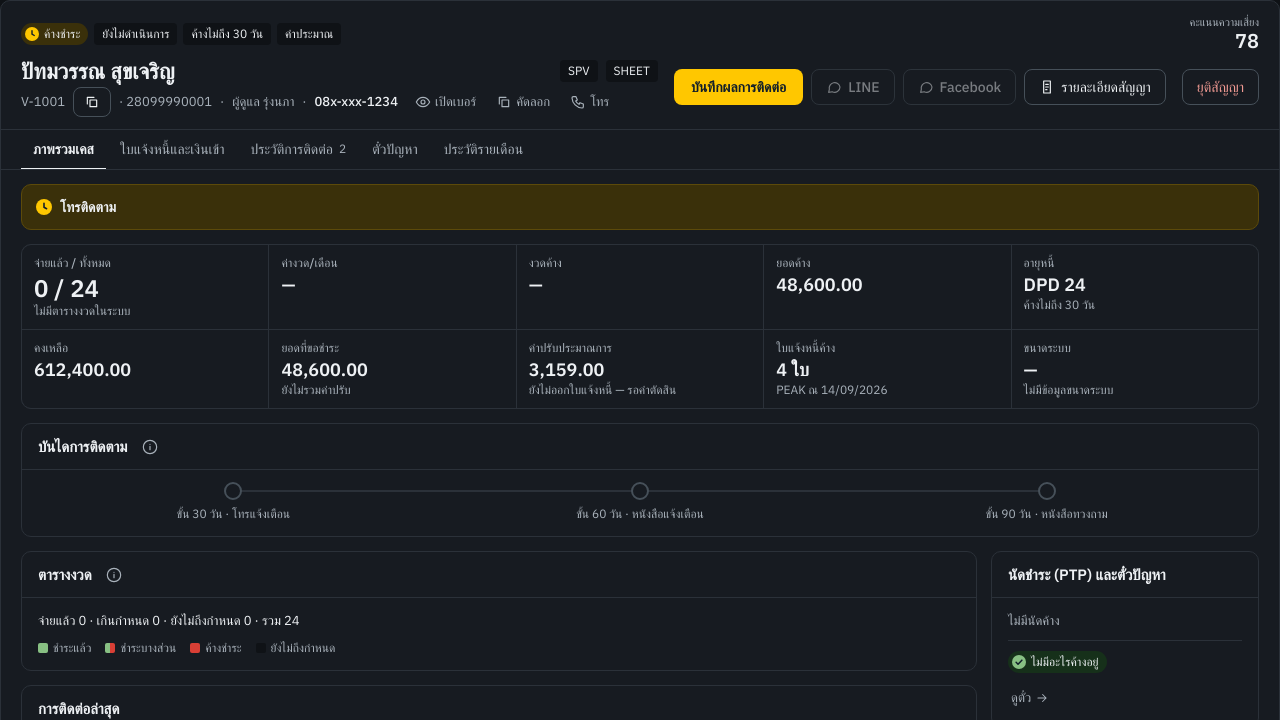
Scenario: the case header and tabs (design D) › marks a contact recorded as the customer's own and one declared not counted
What coordinates should you click on to do the following:
click the tab "ประวัติการติดต่อ 2"
I would click on:
 (298, 150)
Its box is [238, 130, 358, 170].
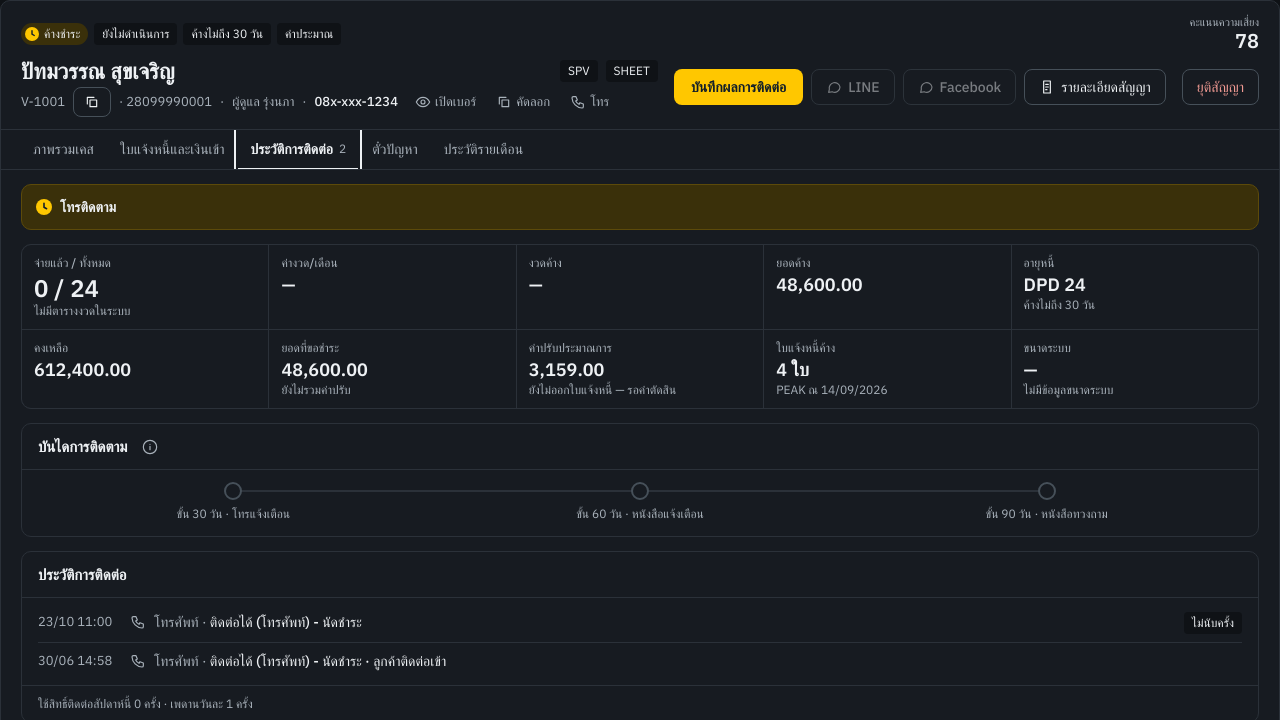
Expected: the text "ไม่นับครั้ง" is shown, [1184, 612, 1242, 634]
Expected: the text "30/06 14:58" is shown, [38, 651, 122, 671]
